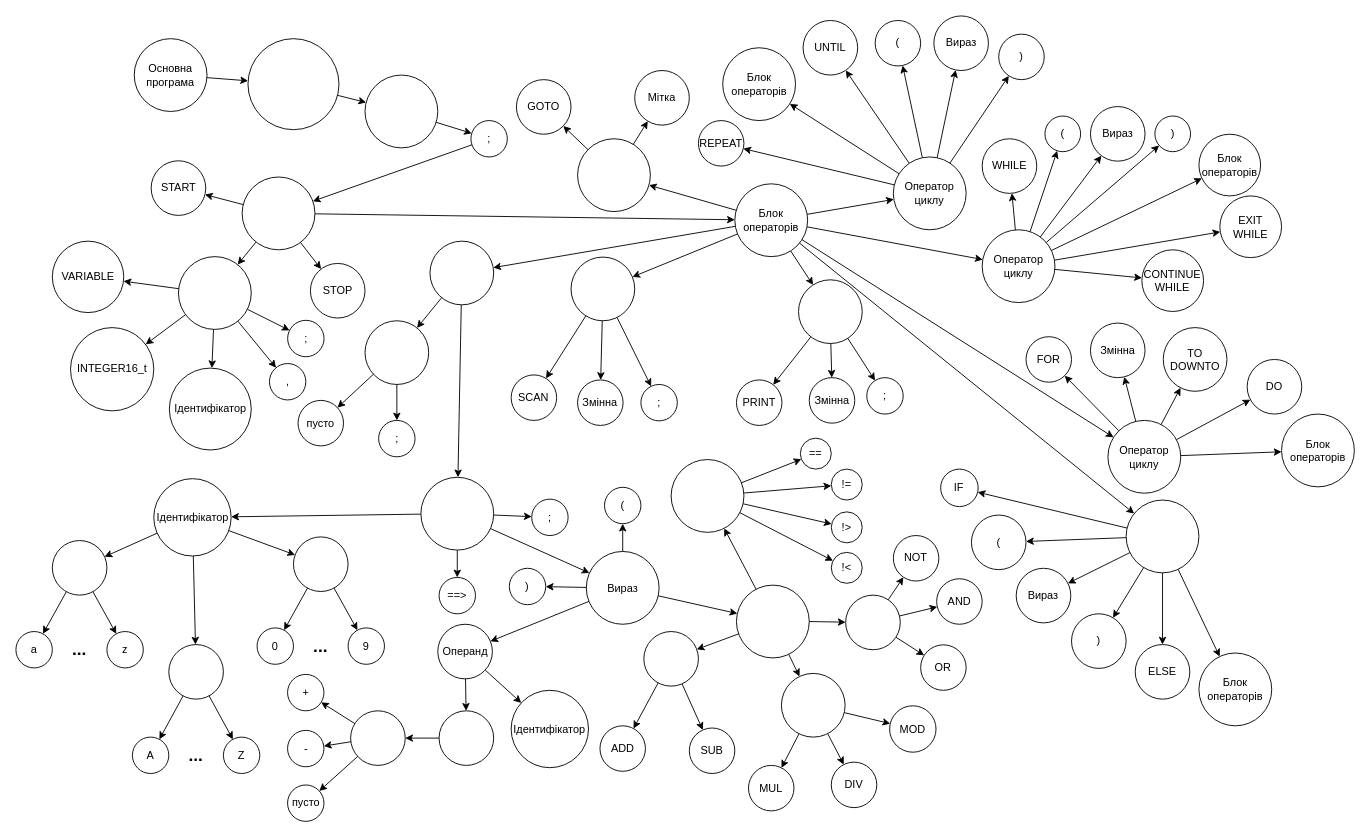
This 1370x838 diagram has some shape labels left out. The centre of each missing label's shape, as x and y in pixels:
"#PROGRAM" goes at pixel 293 84.
"Адитивна операція" goes at pixel 670 658.
"Блок змінних" goes at pixel 214 292.
"Блок коду" goes at pixel 278 213.
"Велика буква" goes at pixel 195 671.
"Знак" goes at pixel 377 737.
"Константа" goes at pixel 466 737.
"Логічна операція" goes at pixel 872 622.
"Мала буква" goes at pixel 79 567.
"Мультиплі кативна операція" goes at pixel 813 704.
"Оператор вводу" goes at pixel 602 288.
"Оператор виводу" goes at pixel 830 311.
"Оператор переходу" goes at pixel 613 175.
"Оператор умови" goes at pixel 1162 536.
"Операції" goes at pixel 772 621.
"Операції порівняння" goes at pixel 707 495.
"Порожній оператор" goes at pixel 396 352.
"Присвоєння" goes at pixel 457 513.
"Простий оператор" goes at pixel 461 272.
"Цифра" goes at pixel 320 564.
"Ім'я програми" goes at pixel 401 111.
